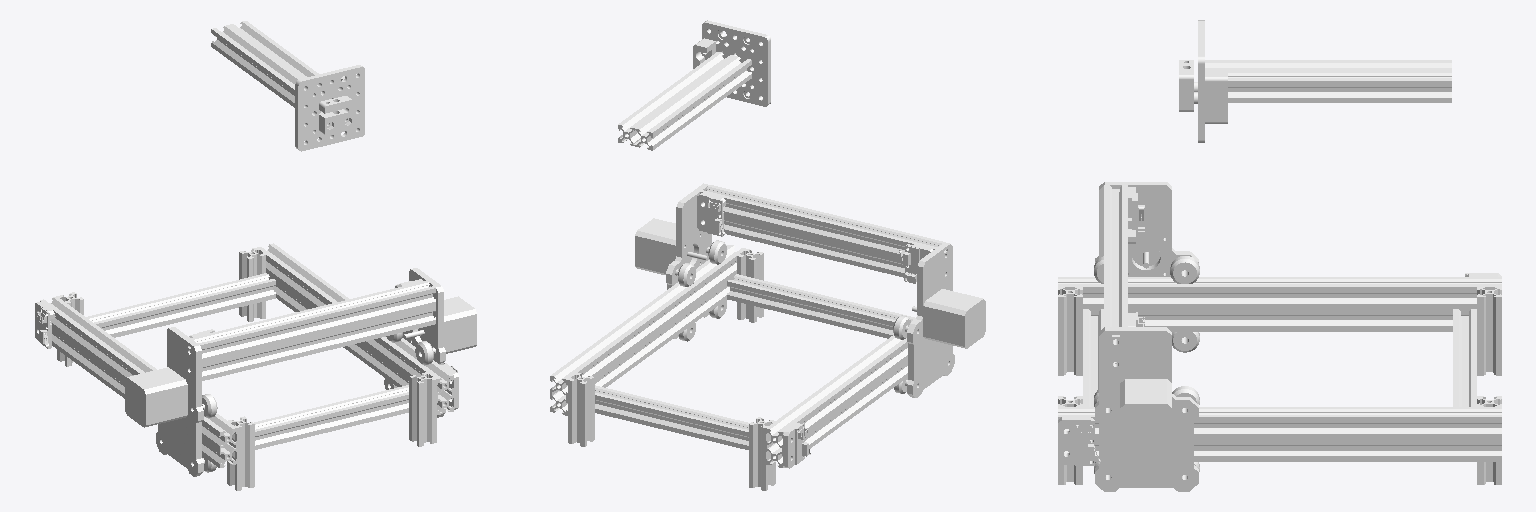
robot.urdf — Manipulator:
<?xml version="1.0"?>

<robot name="Manipulator">

  <!-- Materiales -->
  <material name="metal">
    <color rgba="1.0 1.0 1.0 1.0"/>
  </material>

  <material name="grey">
    <color rgba="1.0 1.0 1.0 1.0"/>
  </material>
  
  <!-- Links -->

  <!-- Base de aluminio -->
  <link name="AluminumBase_link">    
    <visual>
      <geometry>
        <mesh filename="package://manipulator_description/meshes/AluminumBase.stl" scale="0.001 0.001 0.001"/>  
      </geometry>
      <material name="metal"/>
    </visual>
    <collision>
      <geometry>
        <mesh filename="package://manipulator_description/meshes/AluminumBase.stl" scale="0.001 0.001 0.001"/>  
      </geometry>
    </collision>
  </link>

  <!-- BaseFrame -->
  <link name="BaseFrame_link">
     <visual>
      <geometry>
        <mesh filename="package://manipulator_description/meshes/Manipulator_Base_Frame.stl" scale="0.001 0.001 0.001"/>  
      </geometry>
      <material name="metal"/>
    </visual>
    <collision>
      <geometry>
        <mesh filename="package://manipulator_description/meshes/Manipulator_Base_Frame.stl" scale="0.001 0.001 0.001"/>  
      </geometry>
    </collision>
  </link>
  
  <!-- Axis X -->
  <link name="AxisX_link">
    <visual> 
      <geometry>
        <mesh filename="package://manipulator_description/meshes/Manipulator_X_Carriage.stl" scale="0.001 0.001 0.001"/>  
      </geometry>
      <material name="metal"/>
    </visual>
    <collision>
      <geometry>
        <mesh filename="package://manipulator_description/meshes/Manipulator_X_Carriage.stl" scale="0.001 0.001 0.001"/>  
      </geometry>
    </collision>
  </link>

  <!-- Axis Y -->
  <link name="AxisY_link">
    <visual> 
      <geometry>
        <mesh filename="package://manipulator_description/meshes/Manipulator_Y_Carriage.stl" scale="0.001 0.001 0.001"/>  
      </geometry>
      <material name="grey"/>
    </visual>
    <collision>
      <geometry>
        <mesh filename="package://manipulator_description/meshes/Manipulator_Y_Carriage.stl" scale="0.001 0.001 0.001"/>  
      </geometry>
    </collision>
  </link>

  <!-- Axis Z -->
  <link name="AxisZ_link">
    <visual> 
      <geometry>
        <mesh filename="package://manipulator_description/meshes/Manipulator_Z_Carriage.stl" scale="0.001 0.001 0.001"/>  
      </geometry>
      <material name="metal"/>
    </visual>
    <collision>
      <geometry>
        <mesh filename="package://manipulator_description/meshes/Manipulator_Z_Carriage.stl" scale="0.001 0.001 0.001"/>  
      </geometry>
    </collision>
  </link>

  <!-- Claw Base -->
  <link name="ClawBase_link">
    <visual> 
      <geometry>
        <mesh filename="package://manipulator_description/meshes/Manipulator_Base_Claw.stl" scale="0.001 0.001 0.001"/>  
      </geometry>
      <material name="metal"/>
    </visual>
    <collision>
      <geometry>
        <mesh filename="package://manipulator_description/meshes/Manipulator_Base_Claw.stl" scale="0.001 0.001 0.001"/>  
      </geometry>
    </collision>
  </link>

  
  <!-- Joints -->
  <joint name="BaseFrame_joint" type="fixed">
    <parent link="AluminumBase_link"/>
    <child link="BaseFrame_link"/>
    <origin xyz="0.115 0.18 0.0" rpy ="0 0 3.1415 "/>
  </joint>

  <joint name="AxisX_joint" type="prismatic">
    <parent link="BaseFrame_link"/>
    <child link="AxisX_link"/>
    <origin xyz="-0.00475 0.25696 0.02" rpy="0 0 0"/>
    <axis xyz="0 1 0"/>
    <limit lower="-0.21592" upper="0.0" effort="10.0" velocity="0.5"/>
    <dynamics damping="0.7" friction="0.1"/>
  </joint>

  <joint name="AxisY_joint" type="prismatic">
    <parent link="AxisX_link"/>
    <child link="AxisY_link"/>
    <origin xyz="0.02504 0.056 0.081" rpy="0 0 0"/> 
    <axis xyz="1 0 0"/>
    <limit lower="0" upper="0.105" effort="10.0" velocity="0.5"/>
    <dynamics damping="0.5" friction="0.1"/>
  </joint>
  
  <joint name="AxisZ_joint" type="prismatic">
    <parent link="AxisY_link"/>
    <child link="AxisZ_link"/>
    <origin xyz="0.035 -0.05745 0.21389" rpy="0 0 0"/> 
    <axis xyz="0 0 1"/>
    <limit lower="-0.18" upper="0" effort="5.0" velocity="0.3"/>
    <dynamics damping="0.3" friction="0.05"/>
  </joint>

  <joint name="ClawBase_joint" type="fixed">
    <parent link="AxisZ_link"/>
    <child  link="ClawBase_link"/>
    <origin xyz="-0.01 -0.24 0.03" rpy ="0 0 0 "/>
  </joint>


</robot>

--- What the picture shows (computed from the rendered views, not written in the file) ---
The picture shows the robot from 3 angles, left to right: view 1: azimuth 30°, elevation 25°; view 2: azimuth 150°, elevation 25°; view 3: azimuth 270°, elevation 25°; orthographic projection.
Model Manipulator with 6 links and 5 joints (3 prismatic, 2 fixed), rooted at AluminumBase_link, posed all joints at 0.
Links seen in each view (by area): view 1: BaseFrame_link, AxisX_link, AxisZ_link; view 2: BaseFrame_link, AxisX_link, AxisZ_link; view 3: BaseFrame_link, AxisX_link, AxisZ_link.
Link boxes in pixels (x1,y1,x2,y2): BaseFrame_link: (35, 243, 458, 490); AxisX_link: (125, 268, 476, 476); AxisZ_link: (211, 21, 364, 151); BaseFrame_link: (550, 245, 915, 490); AxisX_link: (635, 183, 985, 397); AxisZ_link: (618, 20, 770, 150); BaseFrame_link: (1058, 273, 1501, 484); AxisX_link: (1094, 182, 1199, 491); AxisZ_link: (1179, 20, 1451, 142).
Bounding box of the posed robot: 0.3824 × 0.36 × 0.3735 m (x, y, z).
3 mesh visuals loaded from 6 distinct referenced files (3 binary STL); not drawn: 3 (reference not matched to a file when rendering).